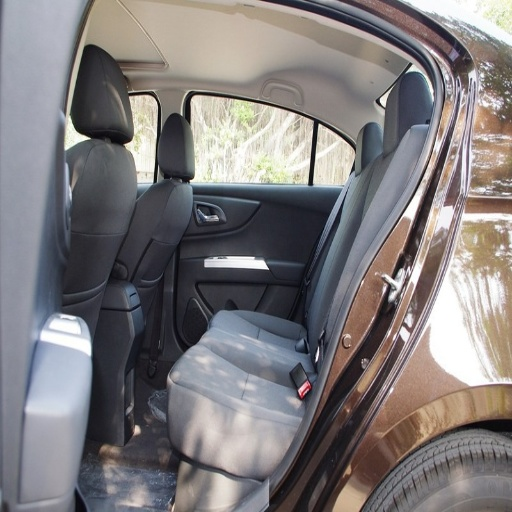front_right_door: (77, 2, 132, 231)
trunk: (212, 200, 256, 234)
